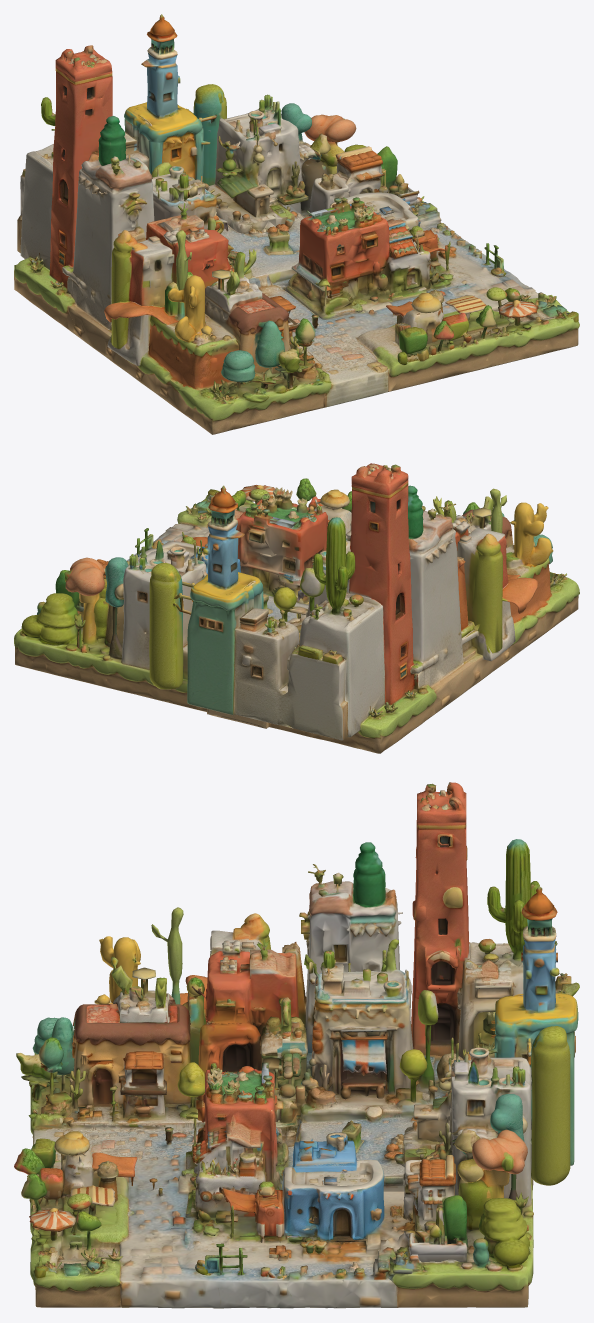
Rendered from hero-model.glb.
The picture shows the model from 3 angles, top to bottom: view 1: azimuth 30°, elevation 25°; view 2: azimuth 150°, elevation 25°; view 3: azimuth 270°, elevation 25°; orthographic projection. The views are drawn at different scales.
Visible parts, largest first — view 1: tripo_part_1, tripo_part_0, tripo_part_28, tripo_part_6, tripo_part_11, tripo_part_2, tripo_part_3, tripo_part_7, tripo_part_4, tripo_part_23, tripo_part_14, tripo_part_9 (+20 smaller); view 2: tripo_part_11, tripo_part_7, tripo_part_1, tripo_part_6, tripo_part_5, tripo_part_0, tripo_part_14, tripo_part_15, tripo_part_23, tripo_part_25, tripo_part_3, tripo_part_20 (+12 smaller); view 3: tripo_part_4, tripo_part_2, tripo_part_8, tripo_part_11, tripo_part_0, tripo_part_5, tripo_part_28, tripo_part_6, tripo_part_9, tripo_part_3, tripo_part_13, tripo_part_7 (+25 smaller).
Part boxes in pixels (x1,y1,x2,y2): tripo_part_1: (62,230,331,434); tripo_part_0: (274,197,430,319); tripo_part_28: (349,287,579,391); tripo_part_6: (72,116,154,323); tripo_part_11: (49,45,112,289); tripo_part_2: (69,162,388,407); tripo_part_3: (215,94,321,217); tripo_part_7: (124,14,216,181); tripo_part_4: (329,174,538,336); tripo_part_23: (107,230,174,366); tripo_part_14: (17,129,54,269); tripo_part_9: (146,203,234,288); tripo_part_11: (348,463,418,705); tripo_part_7: (174,485,263,725); tripo_part_1: (430,488,579,716); tripo_part_6: (408,485,468,665); tripo_part_5: (14,593,208,714); tripo_part_0: (205,487,327,604); tripo_part_14: (297,592,384,737); tripo_part_15: (234,608,299,728); tripo_part_23: (457,527,515,661); tripo_part_25: (280,645,347,740); tripo_part_3: (114,540,207,670); tripo_part_20: (149,563,183,689); tripo_part_4: (119,1157,467,1308); tripo_part_2: (33,990,494,1191); tripo_part_8: (304,939,427,1102); tripo_part_11: (411,782,470,1056); tripo_part_0: (181,1062,293,1219); tripo_part_5: (378,1178,533,1307); tripo_part_28: (29,1160,135,1307); tripo_part_6: (282,842,402,1052); tripo_part_9: (192,939,298,1099); tripo_part_3: (413,1037,531,1207); tripo_part_13: (69,1001,191,1106); tripo_part_7: (489,886,578,1165).
Size of the model in its own units: 7.98 by 4.99 by 7.97.
Materials: 66 (66 with a texture image).
